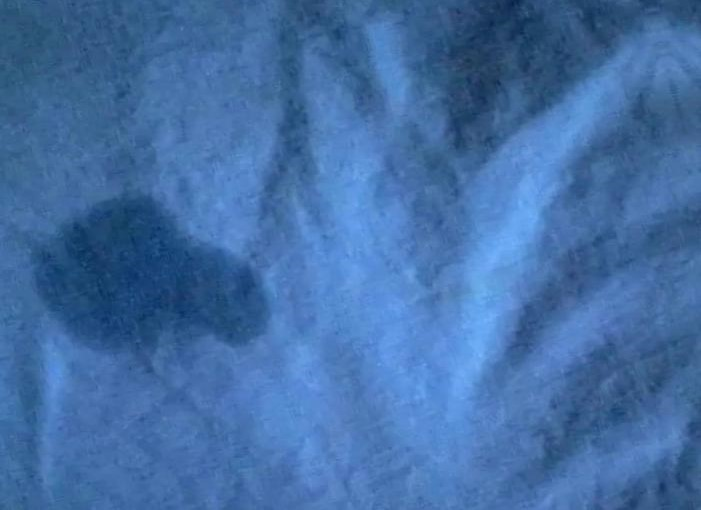stain: (31, 193, 283, 364)
